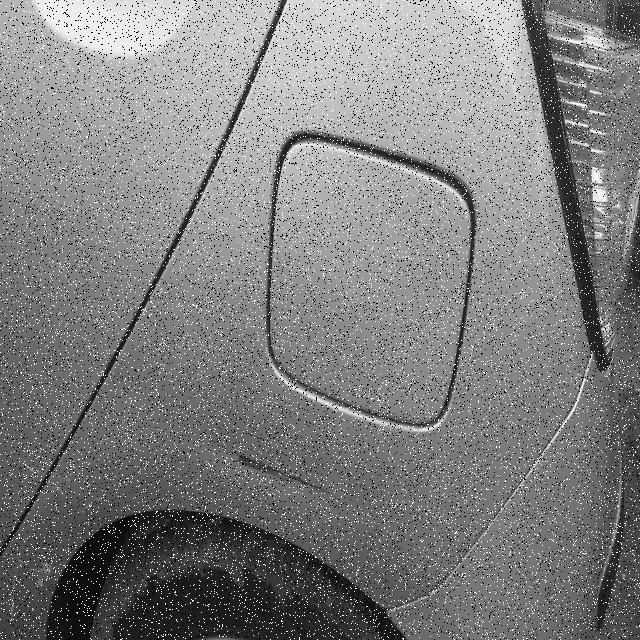quaterpanel-dent: (94, 357, 464, 639), (45, 471, 303, 639)
